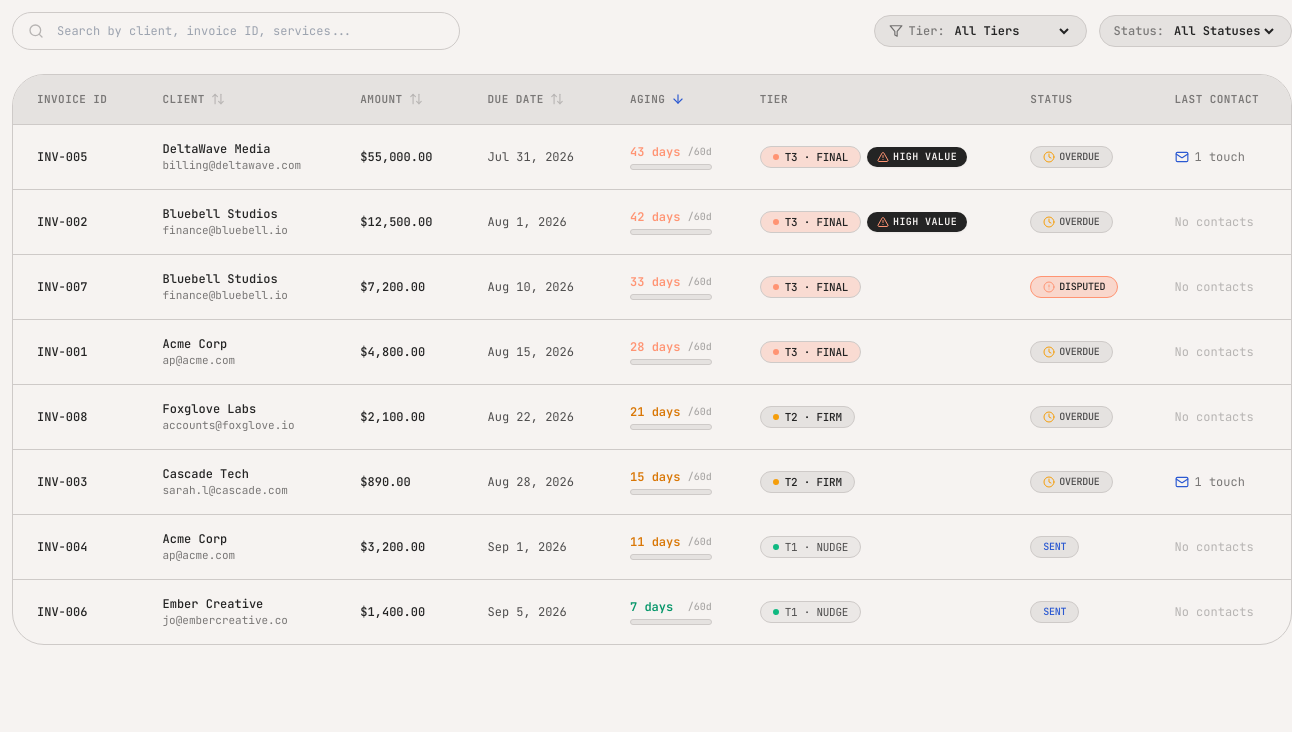
Scenario: FRONT-02: Dashboard Components & Page › InvoiceTable Component › filters invoices client-side by Tier dropdown
The width and height of the screenshot is (1292, 732).
Select "Tier 1 (Nudge)" in the dropdown with test id "tier-filter-select" at (1011, 31), box [951,22,1072,40]
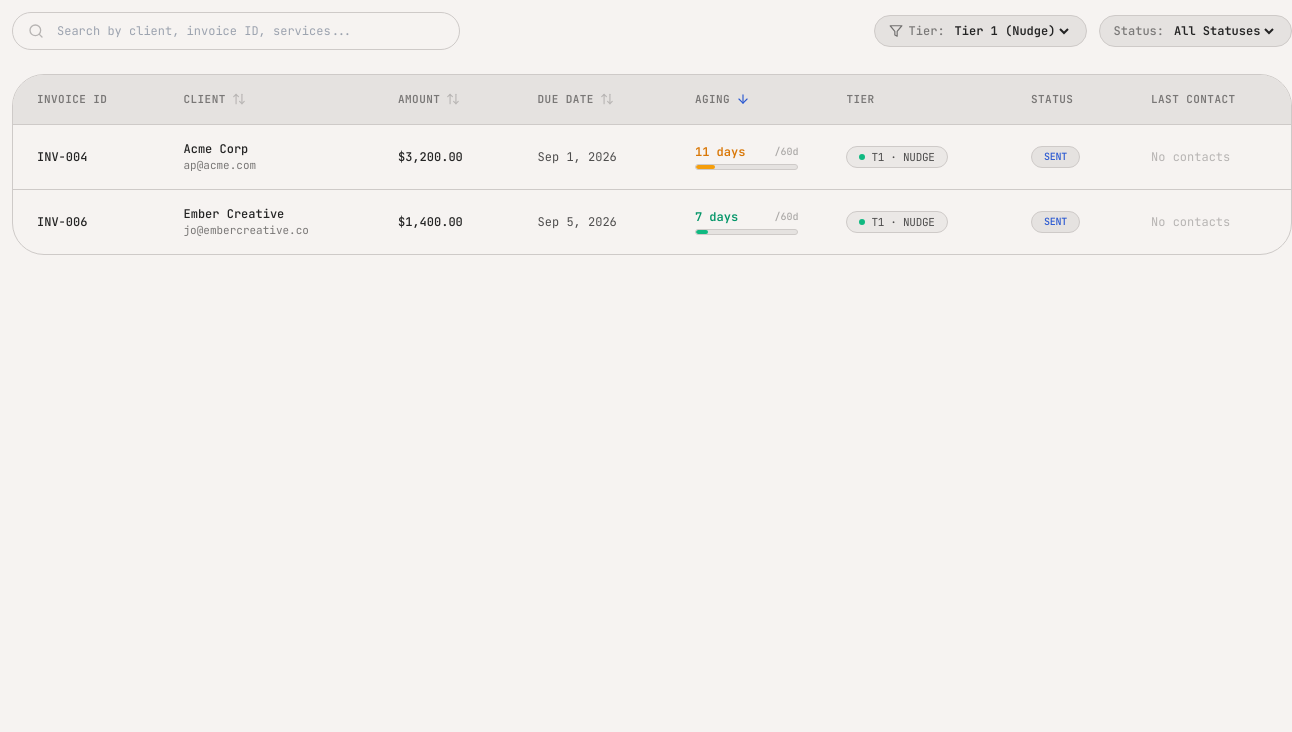
Expected: the row with test id "invoice-row-INV-006" is shown, [13,189,1291,254]
Now the row with test id "invoice-row-INV-005" is gone
